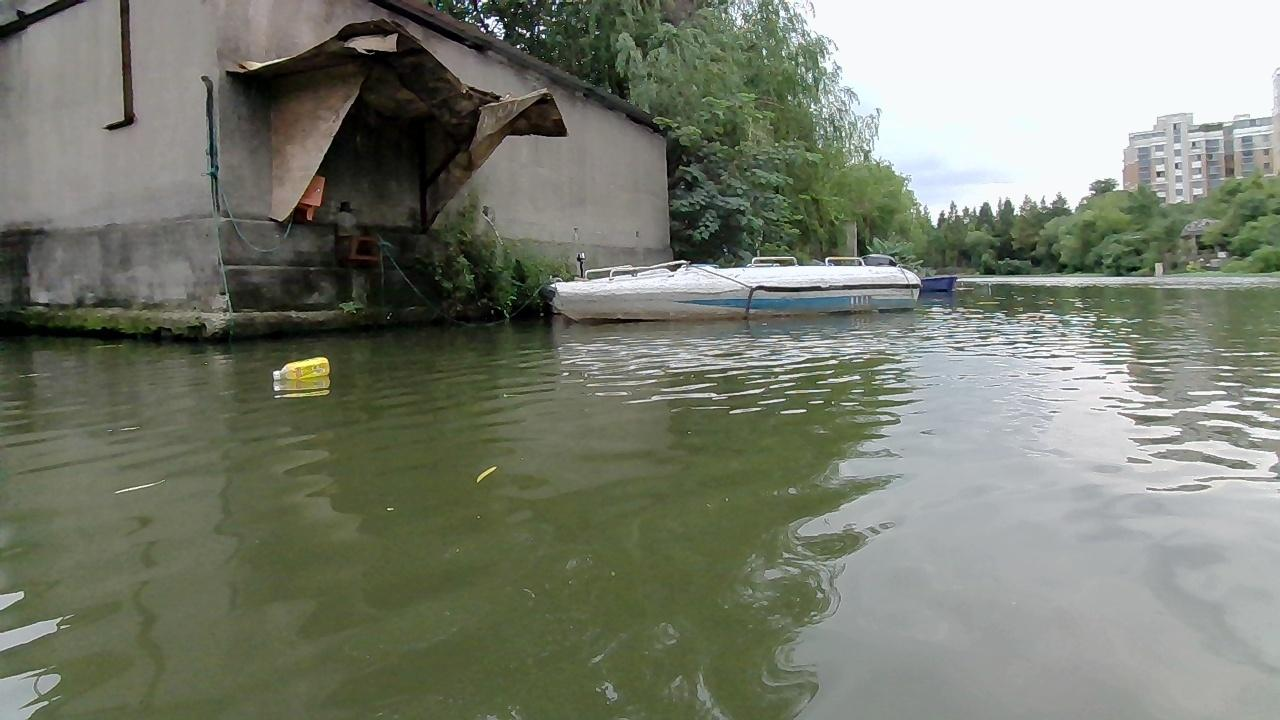bottle: (272, 355, 330, 386)
